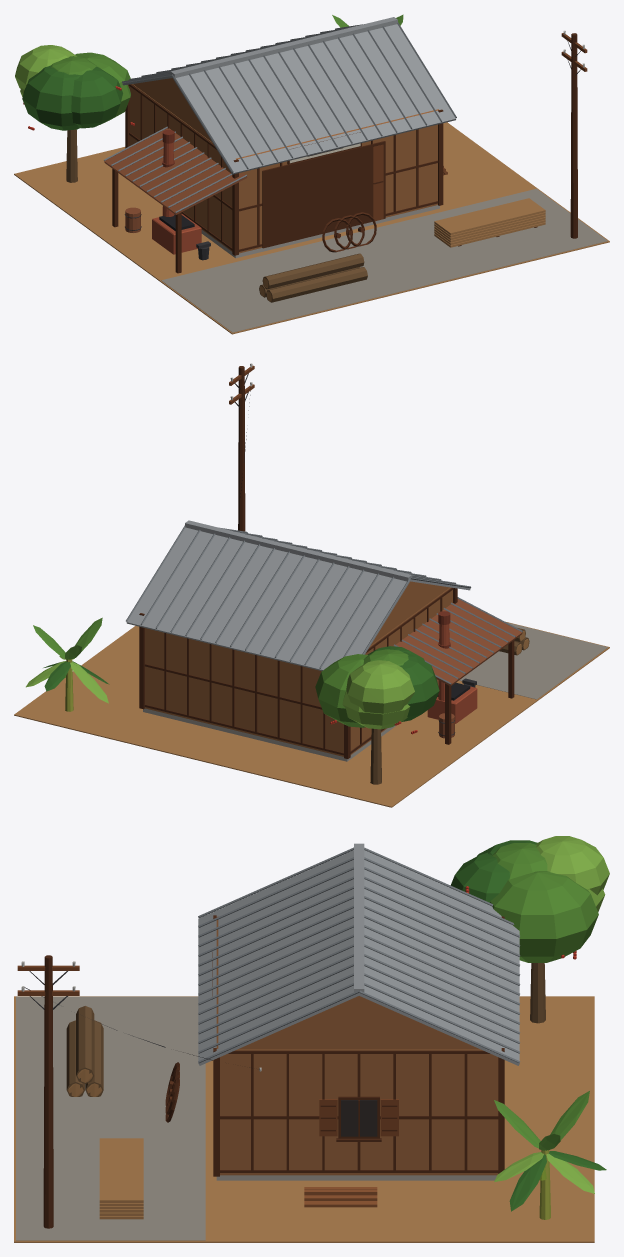
The model's file is factory_1.glb.
The picture shows the model from 3 angles, top to bottom: view 1: azimuth 30°, elevation 25°; view 2: azimuth 150°, elevation 25°; view 3: azimuth 270°, elevation 25°; orthographic projection. The views are drawn at different scales.
Parts seen in each view (by area): view 1: body; view 2: body; view 3: body, windows.
Boxes of the visible parts, bbox=[...] form: body: bbox=[14, 14, 609, 334]; body: bbox=[14, 363, 609, 807]; body: bbox=[14, 836, 609, 1242]; windows: bbox=[341, 1100, 377, 1136].
Size of the model in its own units: 16.51 by 8.23 by 16.32.
